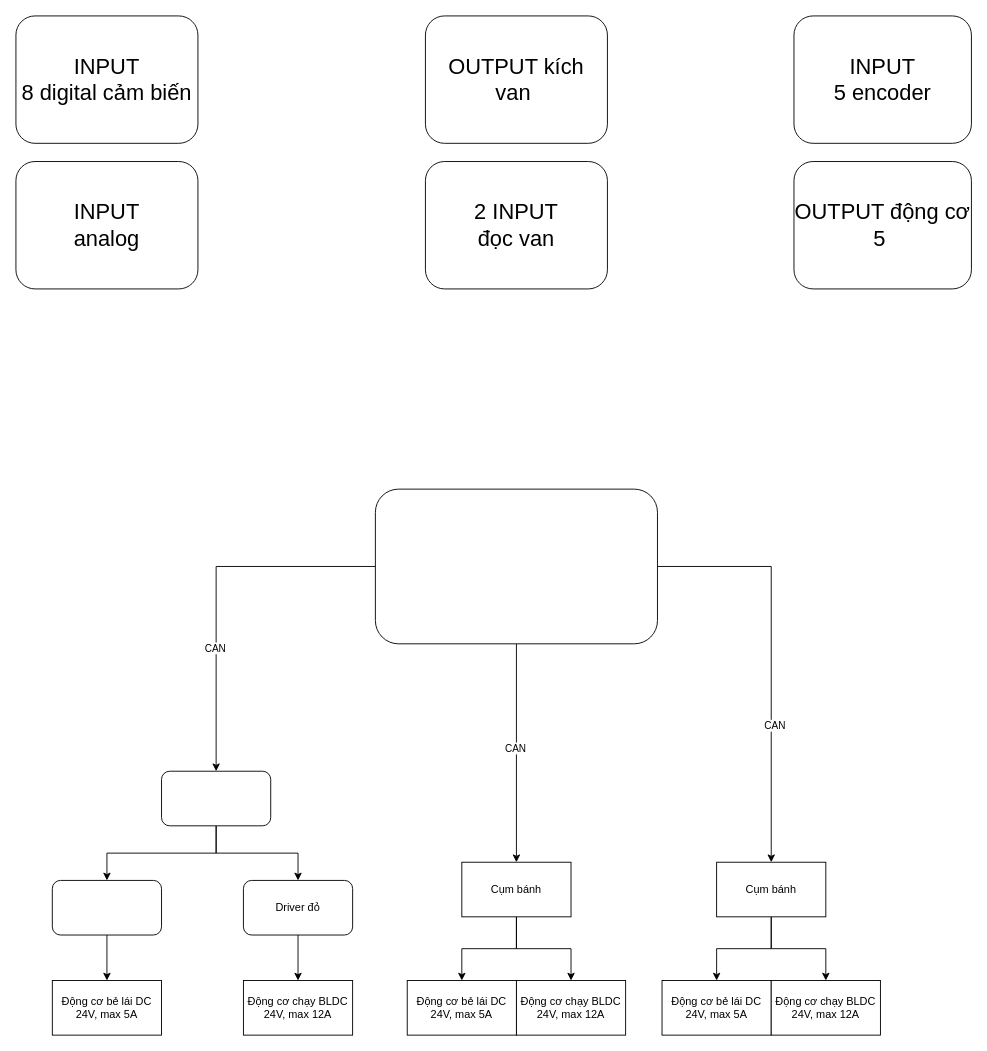
Image size: 987x1051. Some labels were removed from this diagram. The shapes that lost their labels are listed below. From the top down, each one's centre as x and y in pixels, then its label:
pixel 515 566: Master
pixel 216 798: Driver lái động cơ
pixel 106 907: BTS
